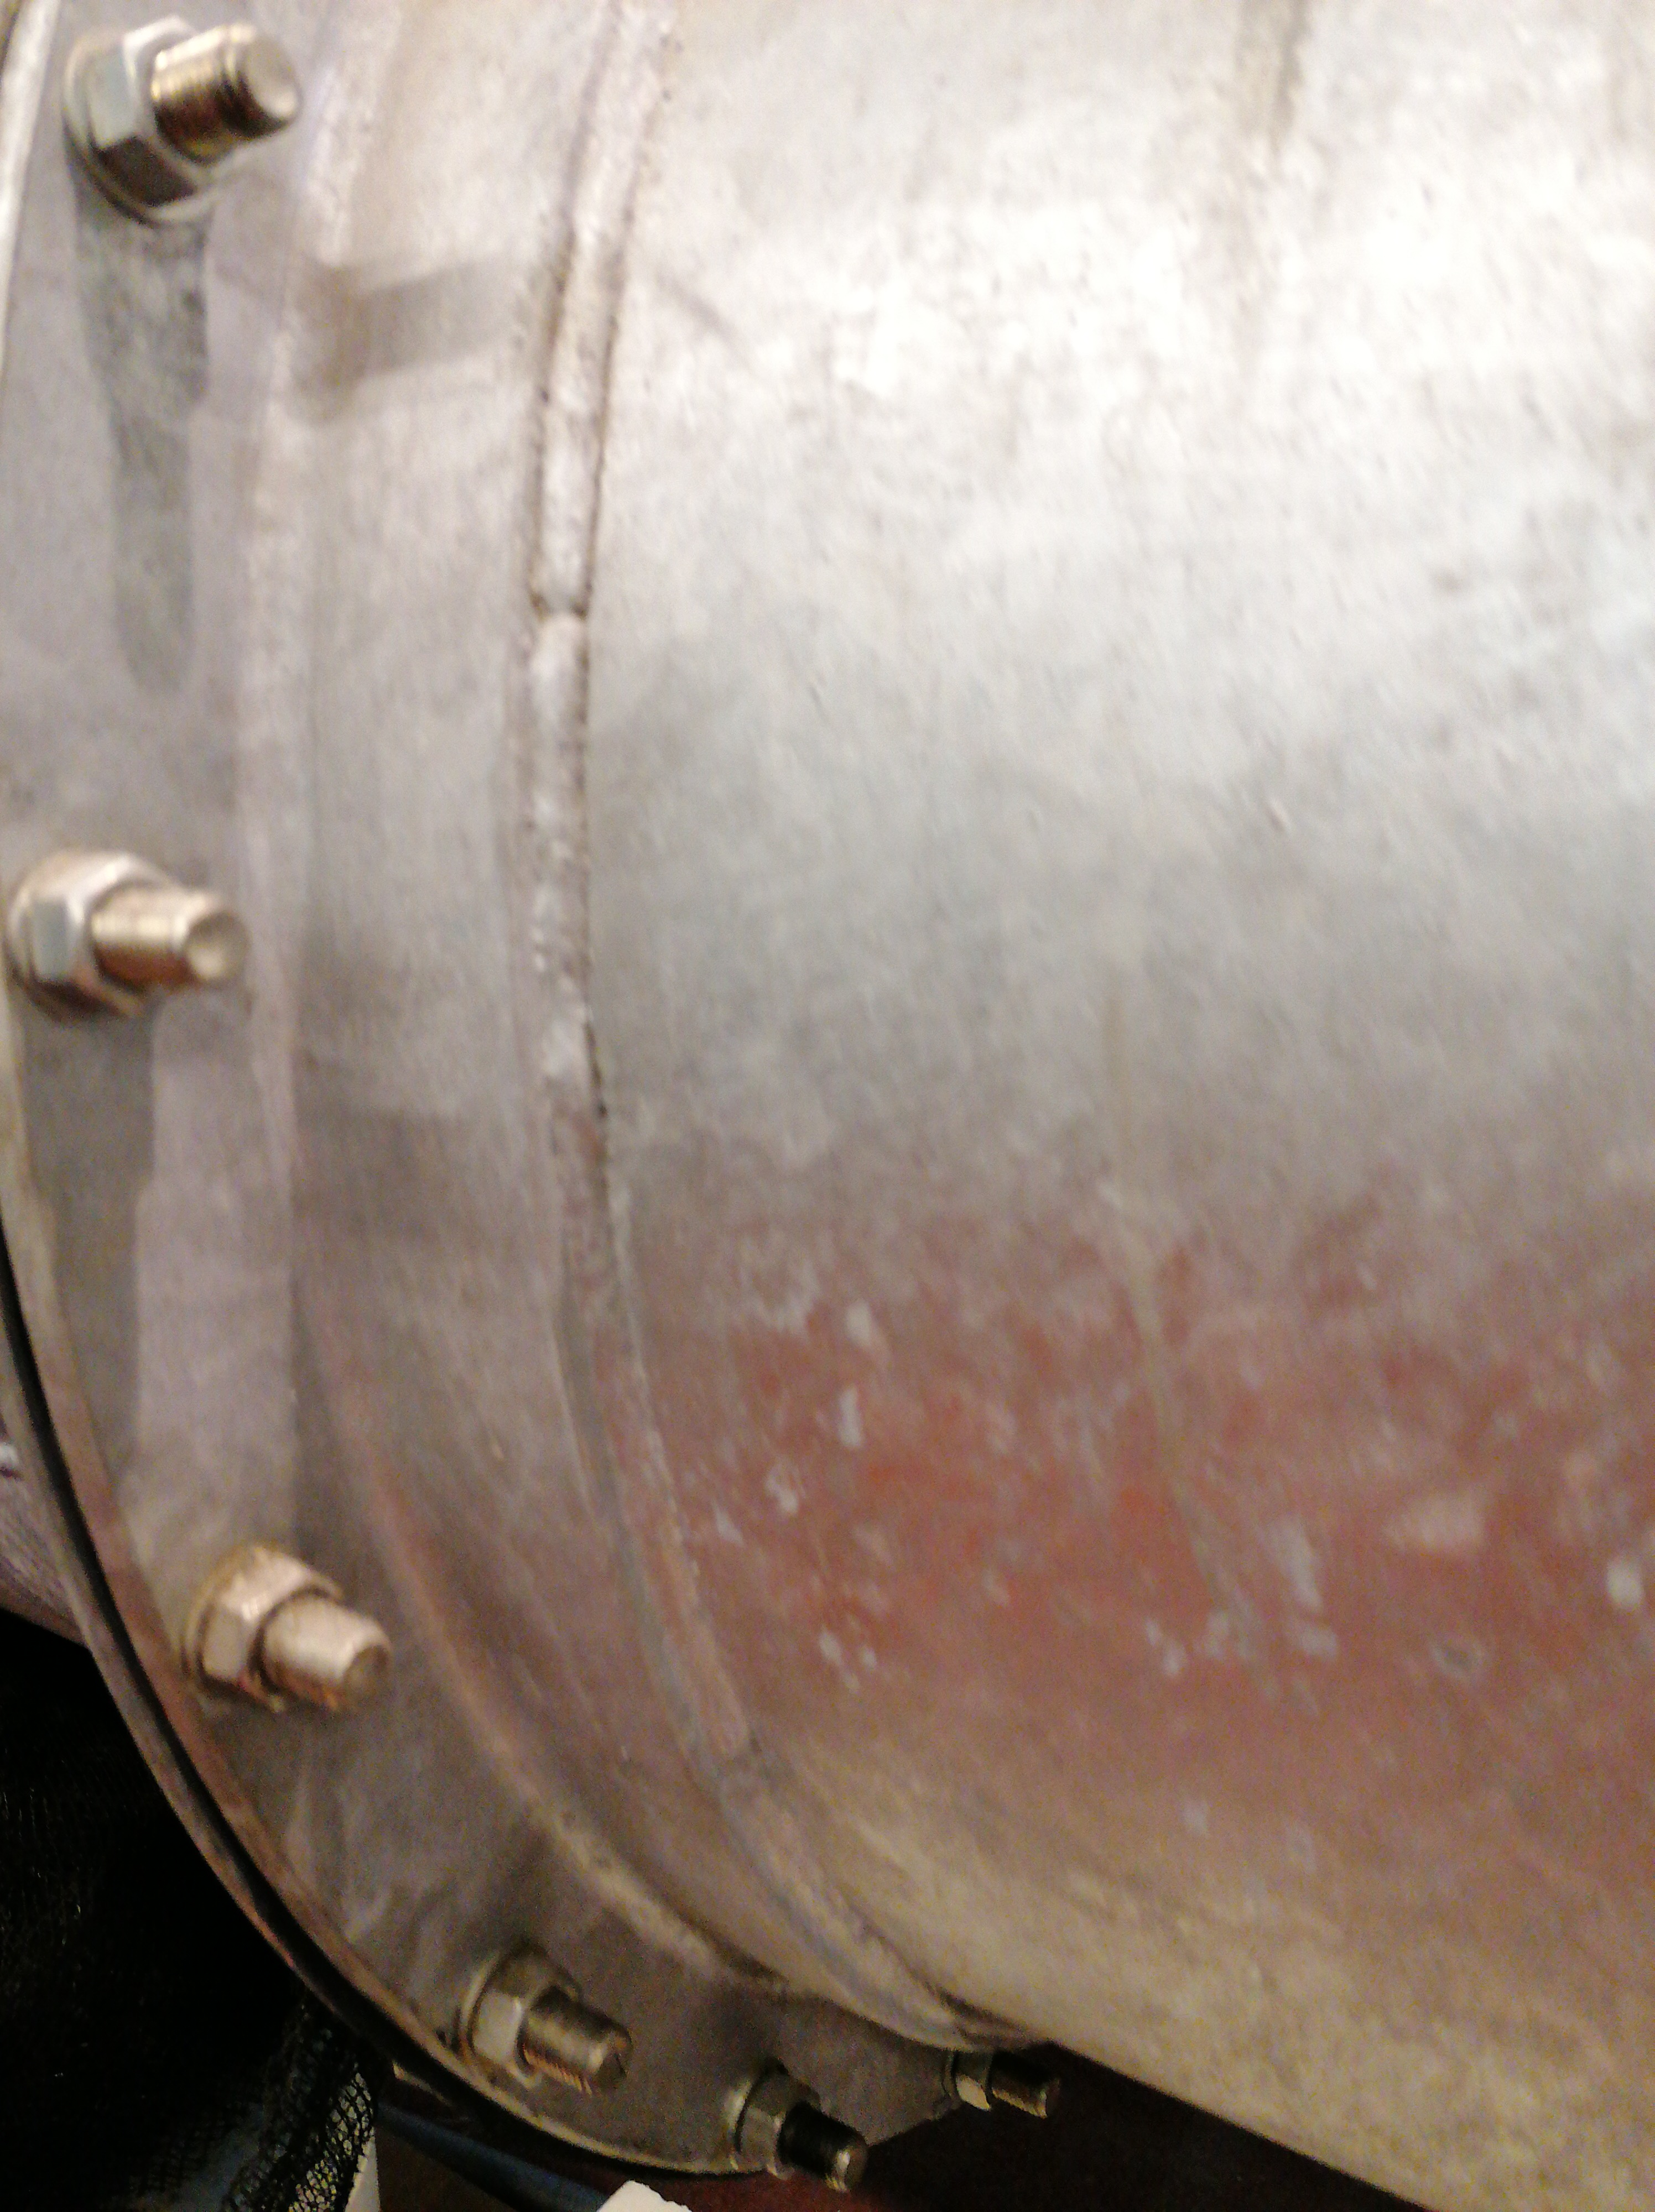bolt: (165, 24, 308, 165), (278, 1583, 398, 1724), (106, 888, 252, 992), (528, 1991, 633, 2108), (791, 2106, 871, 2193), (998, 2059, 1062, 2118)
nut: (31, 829, 184, 1023), (82, 12, 228, 207), (203, 1546, 341, 1719), (473, 1948, 584, 2097), (742, 2070, 821, 2188), (949, 2057, 1008, 2111)
